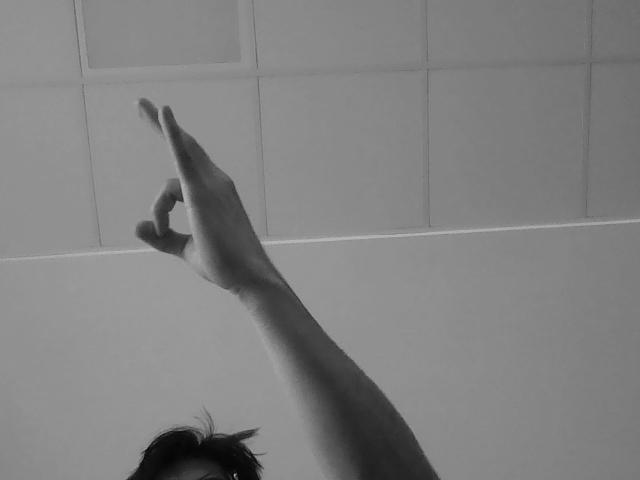OK: (125, 94, 300, 293)
